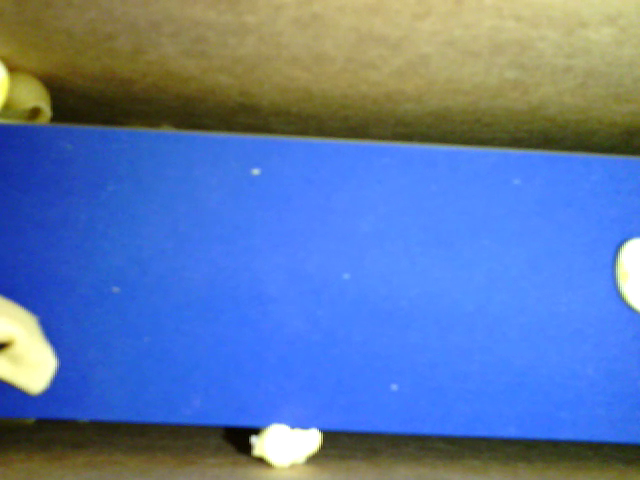shell: (4, 72, 58, 124)
tortellini: (1, 295, 61, 395)
